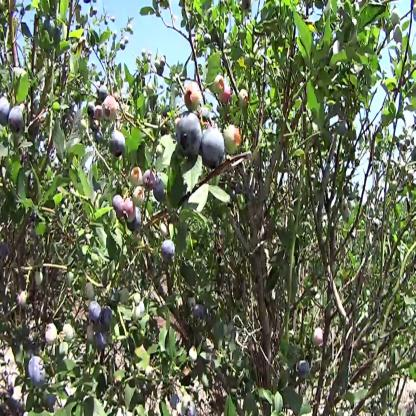intermediate: (187, 83, 203, 113), (216, 78, 232, 104), (106, 99, 119, 124), (46, 323, 58, 346), (144, 171, 155, 193), (313, 327, 323, 349)
mature: (177, 112, 225, 168), (1, 97, 24, 135), (87, 103, 102, 143), (90, 303, 113, 328), (113, 197, 135, 223), (29, 357, 46, 388), (109, 130, 126, 160), (162, 239, 177, 266), (194, 304, 206, 329), (154, 182, 166, 204), (97, 330, 110, 350), (298, 359, 309, 380)
young: (132, 166, 144, 208), (224, 124, 241, 153), (64, 323, 74, 343), (239, 89, 249, 108), (35, 272, 44, 288)
